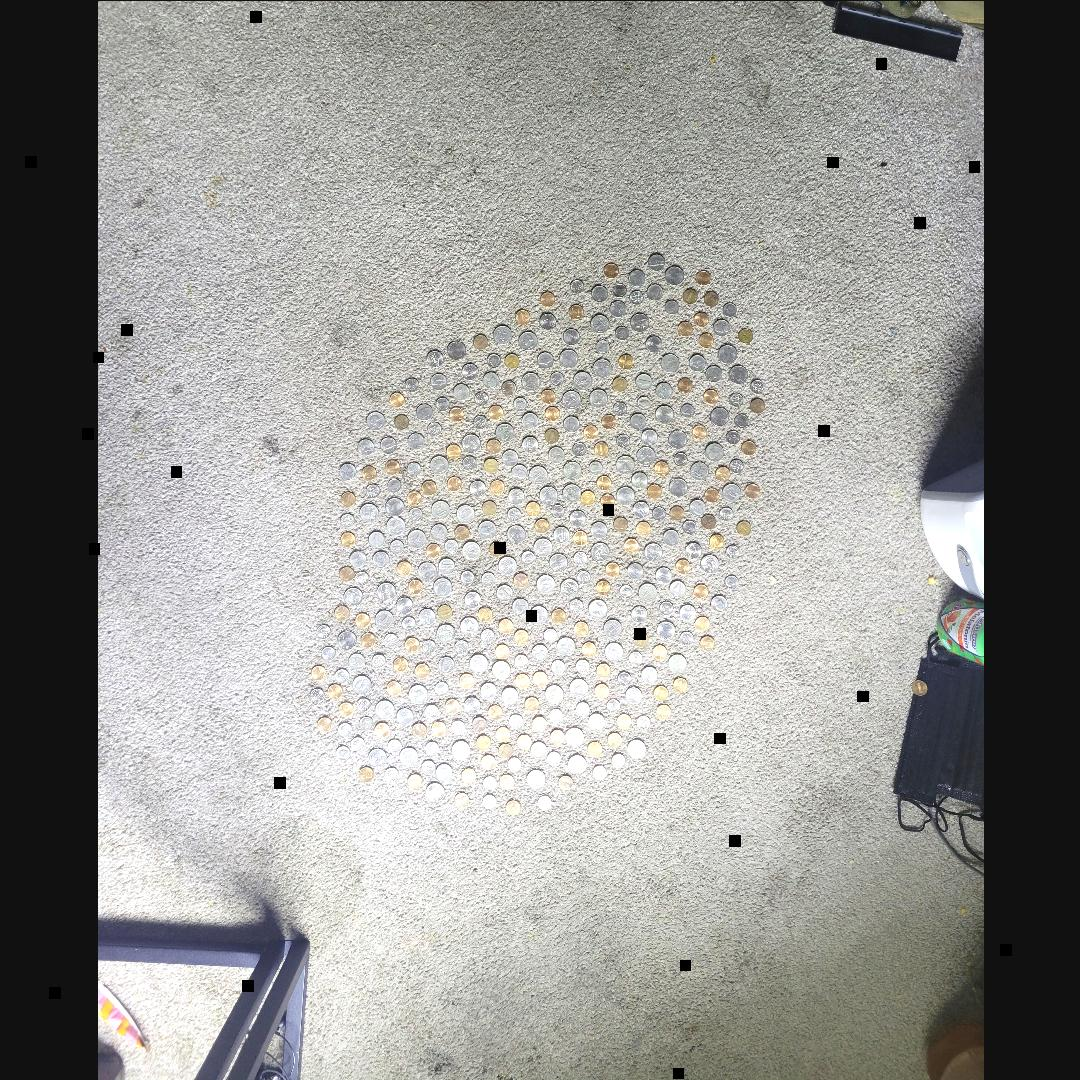Dime: (479, 682, 495, 698), (450, 720, 464, 734), (658, 600, 672, 614), (610, 753, 624, 767), (592, 764, 606, 778), (546, 751, 560, 765), (506, 757, 520, 771), (481, 794, 495, 808), (574, 658, 588, 672), (550, 659, 564, 673), (420, 760, 434, 774), (386, 738, 400, 752), (371, 654, 385, 668), (355, 697, 369, 711), (309, 688, 323, 702), (400, 616, 414, 630), (338, 512, 352, 526), (459, 570, 473, 584), (480, 571, 494, 585), (520, 550, 534, 564), (568, 598, 582, 612), (618, 584, 632, 598), (728, 458, 742, 472), (718, 506, 732, 520), (724, 544, 738, 558), (679, 630, 693, 644), (679, 402, 693, 416), (722, 302, 736, 316), (628, 289, 642, 303), (614, 325, 628, 339), (548, 371, 562, 385), (636, 396, 650, 410), (571, 441, 585, 455), (486, 352, 500, 366), (512, 396, 526, 410), (472, 414, 486, 428), (404, 377, 418, 391), (434, 396, 448, 410), (358, 716, 372, 730), (537, 794, 550, 808), (480, 628, 493, 642), (433, 680, 446, 694), (422, 639, 435, 653), (338, 722, 351, 736), (349, 736, 362, 750), (320, 646, 334, 659), (316, 624, 329, 638), (353, 570, 366, 584), (386, 477, 400, 490), (444, 538, 457, 552), (612, 284, 626, 297), (596, 339, 609, 353), (462, 455, 475, 469), (473, 391, 486, 405), (426, 422, 440, 435), (574, 552, 587, 565), (628, 650, 640, 664), (616, 672, 630, 684), (606, 698, 618, 712), (576, 701, 588, 715), (508, 714, 522, 726), (548, 708, 562, 720), (542, 628, 556, 640), (454, 639, 466, 653), (424, 740, 436, 754), (384, 766, 396, 780), (384, 632, 396, 646), (334, 668, 346, 682), (406, 461, 418, 475), (408, 506, 420, 520), (389, 539, 401, 553), (506, 508, 520, 520), (576, 570, 588, 584), (588, 460, 600, 474), (652, 506, 664, 520), (724, 574, 736, 588), (730, 392, 742, 406), (734, 414, 748, 426), (664, 300, 678, 312), (570, 279, 582, 293), (612, 402, 626, 414), (616, 434, 628, 448), (481, 776, 494, 788), (514, 654, 526, 667), (335, 746, 348, 758), (366, 484, 378, 497), (550, 503, 562, 516), (750, 379, 762, 392), (726, 430, 738, 443), (674, 451, 686, 464), (636, 716, 648, 728), (424, 704, 436, 716), (682, 520, 694, 532)
Nickel: (370, 550, 388, 567), (434, 762, 450, 780), (395, 706, 411, 724), (338, 462, 354, 480), (705, 364, 721, 382), (644, 334, 660, 352), (627, 268, 643, 286), (647, 252, 663, 270), (436, 656, 454, 672), (481, 370, 497, 388), (630, 470, 646, 488), (640, 666, 656, 683), (688, 499, 705, 515), (461, 362, 477, 379), (626, 562, 642, 579), (530, 644, 546, 661), (453, 382, 468, 400), (587, 713, 603, 729), (347, 652, 363, 668), (418, 608, 434, 624), (624, 686, 640, 702), (684, 542, 700, 558), (590, 521, 606, 537), (348, 550, 364, 566), (395, 597, 411, 613), (356, 438, 372, 454), (379, 436, 395, 452), (407, 433, 423, 449), (430, 523, 446, 539), (501, 449, 517, 465), (520, 436, 536, 452), (507, 487, 523, 503), (568, 510, 584, 526), (640, 428, 656, 444), (688, 354, 704, 370), (634, 373, 650, 389), (562, 415, 578, 431), (536, 351, 552, 367), (562, 328, 578, 344), (521, 412, 537, 428), (425, 350, 441, 366), (415, 403, 431, 419), (590, 284, 606, 300), (608, 300, 624, 316), (538, 313, 554, 329), (510, 464, 526, 480), (662, 529, 678, 545), (511, 598, 527, 614), (501, 686, 516, 703), (631, 606, 646, 623), (530, 740, 544, 758), (462, 696, 477, 712), (668, 580, 683, 596), (654, 567, 669, 583), (552, 526, 567, 542), (469, 479, 484, 495), (654, 382, 669, 398), (430, 373, 444, 390), (680, 604, 694, 620), (496, 584, 510, 600), (464, 591, 478, 607), (438, 558, 452, 574), (367, 532, 383, 546), (632, 502, 648, 516), (630, 412, 644, 428), (646, 283, 660, 299), (712, 320, 728, 334), (548, 446, 562, 462), (712, 594, 726, 610)
Penny: (698, 634, 714, 650), (692, 311, 708, 326), (602, 262, 617, 278), (512, 629, 528, 643), (354, 612, 368, 628), (693, 582, 707, 598), (708, 534, 724, 548), (407, 773, 422, 787), (587, 740, 601, 755), (338, 532, 353, 546), (488, 541, 503, 555), (425, 543, 439, 558), (339, 491, 353, 506), (384, 458, 398, 473), (482, 457, 496, 472), (488, 404, 502, 419), (539, 290, 553, 305), (505, 800, 519, 814), (454, 792, 468, 806), (357, 766, 371, 780), (316, 717, 330, 731), (338, 702, 352, 716), (326, 684, 340, 698), (310, 665, 324, 679), (385, 680, 399, 694), (392, 657, 406, 671), (414, 663, 428, 677), (373, 722, 387, 736), (411, 723, 425, 737), (431, 721, 445, 735), (460, 768, 474, 782), (480, 754, 494, 768), (476, 735, 490, 749), (499, 774, 513, 788), (558, 775, 572, 789), (549, 729, 563, 743), (531, 716, 545, 730), (606, 733, 620, 747), (616, 713, 630, 727), (655, 703, 669, 717), (653, 685, 667, 699), (672, 677, 686, 691), (652, 644, 666, 658), (695, 616, 709, 630), (633, 631, 647, 645), (574, 621, 588, 635), (550, 608, 564, 622), (580, 641, 594, 655), (595, 663, 609, 677), (593, 683, 607, 697), (532, 670, 546, 684), (515, 673, 529, 687), (524, 696, 538, 710), (516, 734, 530, 748), (497, 743, 511, 757), (487, 705, 501, 719), (471, 716, 485, 730), (444, 699, 458, 713), (459, 673, 473, 687), (494, 644, 508, 658), (497, 618, 511, 632), (437, 604, 451, 618), (403, 637, 417, 651), (360, 632, 374, 646), (338, 566, 352, 580), (396, 560, 410, 574), (407, 579, 421, 593), (512, 572, 526, 586), (596, 580, 610, 594), (674, 558, 688, 572), (623, 538, 637, 552), (572, 530, 586, 544), (453, 525, 467, 539), (735, 520, 749, 534), (700, 514, 714, 528), (635, 521, 649, 535), (613, 517, 627, 531), (599, 494, 613, 508), (580, 490, 594, 504), (596, 475, 610, 489), (534, 517, 548, 531), (525, 501, 539, 515), (481, 500, 495, 514), (446, 476, 460, 490), (420, 480, 434, 494), (406, 490, 420, 504), (360, 465, 374, 479), (445, 444, 459, 458), (485, 438, 499, 452), (544, 428, 558, 442), (583, 424, 597, 438), (594, 442, 608, 456), (646, 484, 660, 498), (703, 488, 717, 502), (744, 483, 758, 497), (715, 466, 729, 480), (654, 460, 668, 474), (740, 440, 754, 454), (691, 424, 705, 438), (600, 413, 614, 427), (388, 392, 402, 406), (448, 407, 462, 421), (472, 335, 486, 349), (503, 353, 517, 367), (501, 380, 515, 394), (540, 389, 554, 403), (544, 406, 558, 420), (612, 376, 626, 390), (678, 378, 692, 392), (703, 389, 717, 403), (750, 398, 764, 412), (738, 328, 752, 342), (698, 332, 712, 346), (678, 321, 692, 335), (703, 291, 717, 305), (682, 288, 696, 302), (695, 270, 709, 284), (567, 304, 581, 318), (515, 309, 529, 323), (617, 353, 631, 367), (495, 726, 508, 740), (669, 505, 682, 519), (393, 414, 406, 428), (478, 606, 490, 620), (334, 604, 346, 618), (606, 562, 618, 576), (490, 479, 502, 493)
Quarter: (566, 754, 586, 774), (416, 560, 436, 580), (614, 454, 634, 474), (492, 324, 512, 344), (520, 372, 540, 391), (626, 738, 644, 758), (564, 726, 582, 746), (526, 768, 544, 788), (491, 660, 509, 680), (398, 746, 416, 766), (358, 502, 376, 522), (562, 482, 580, 502), (642, 542, 662, 560), (721, 482, 739, 502), (689, 460, 707, 480), (709, 406, 727, 426), (660, 352, 678, 372), (668, 428, 686, 448), (518, 330, 536, 350), (495, 422, 513, 442), (429, 454, 447, 474), (366, 410, 384, 430), (352, 674, 370, 694), (408, 684, 426, 703), (375, 582, 394, 600), (430, 499, 448, 518), (705, 441, 723, 460), (592, 357, 610, 376), (590, 313, 608, 332), (460, 432, 477, 452), (528, 605, 546, 623), (544, 684, 562, 702), (668, 654, 686, 672), (656, 620, 674, 638), (604, 642, 622, 660), (556, 637, 574, 655), (568, 678, 586, 696), (468, 653, 486, 671), (374, 700, 392, 718), (451, 740, 469, 758), (425, 782, 443, 800), (367, 748, 385, 766), (336, 630, 354, 648), (374, 609, 392, 627), (436, 624, 454, 642), (459, 616, 477, 634), (432, 577, 450, 595), (407, 529, 425, 547), (386, 516, 404, 534), (384, 497, 402, 515), (477, 520, 495, 538), (461, 541, 479, 559), (506, 524, 524, 542), (533, 538, 551, 556), (548, 553, 566, 571), (560, 578, 578, 596), (590, 542, 608, 560), (538, 485, 556, 503), (668, 477, 686, 495), (638, 582, 656, 600), (728, 365, 746, 383), (718, 344, 736, 362), (654, 405, 672, 423), (636, 446, 654, 464), (528, 465, 546, 483), (588, 388, 606, 406), (446, 340, 464, 358), (630, 312, 648, 330), (664, 265, 682, 283), (344, 586, 360, 606), (457, 504, 474, 522), (587, 599, 604, 617), (615, 486, 632, 504), (562, 390, 579, 408), (559, 349, 576, 367), (603, 620, 621, 636), (498, 556, 514, 574), (536, 574, 552, 592), (700, 554, 716, 572), (562, 462, 580, 478), (572, 372, 590, 388)
